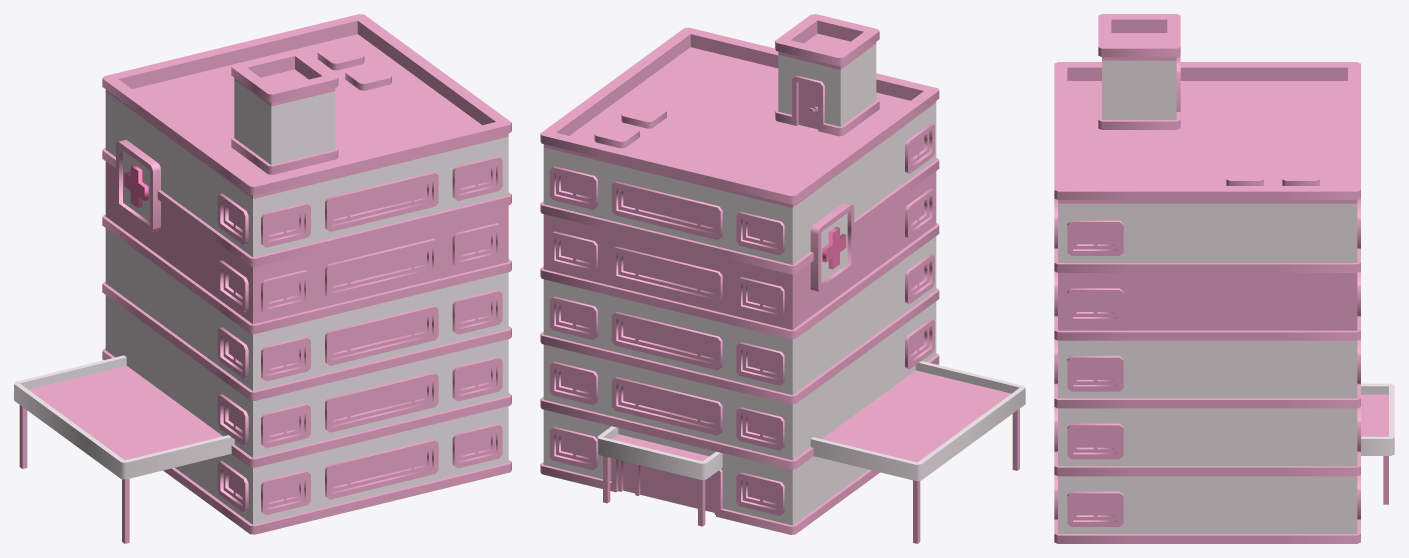
File: building_n.obj
3 views of the same model, side by side, from view 1: azimuth 30°, elevation 25°; view 2: azimuth 150°, elevation 25°; view 3: azimuth 270°, elevation 25° (orthographic). The views are drawn at different scales.
Parts seen in each view (by area): view 1: building-n; view 2: building-n; view 3: building-n.
Part boxes in pixels (x1,y1,x2,y2): building-n: (14, 14, 511, 543); building-n: (540, 14, 1025, 543); building-n: (1054, 14, 1394, 543).
Size of the model in its own units: 46.4 by 49.6 by 36.4.
Materials: 1 (1 with a texture image).
